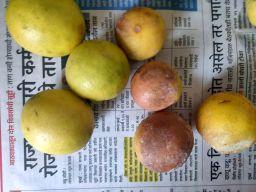lemon: (20, 88, 96, 157), (5, 0, 86, 58), (65, 39, 130, 101), (134, 111, 195, 174), (196, 90, 256, 154), (114, 6, 167, 61), (130, 61, 182, 111)
